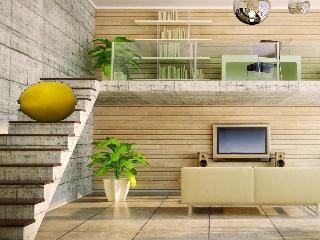lemon: (15, 79, 81, 125)
